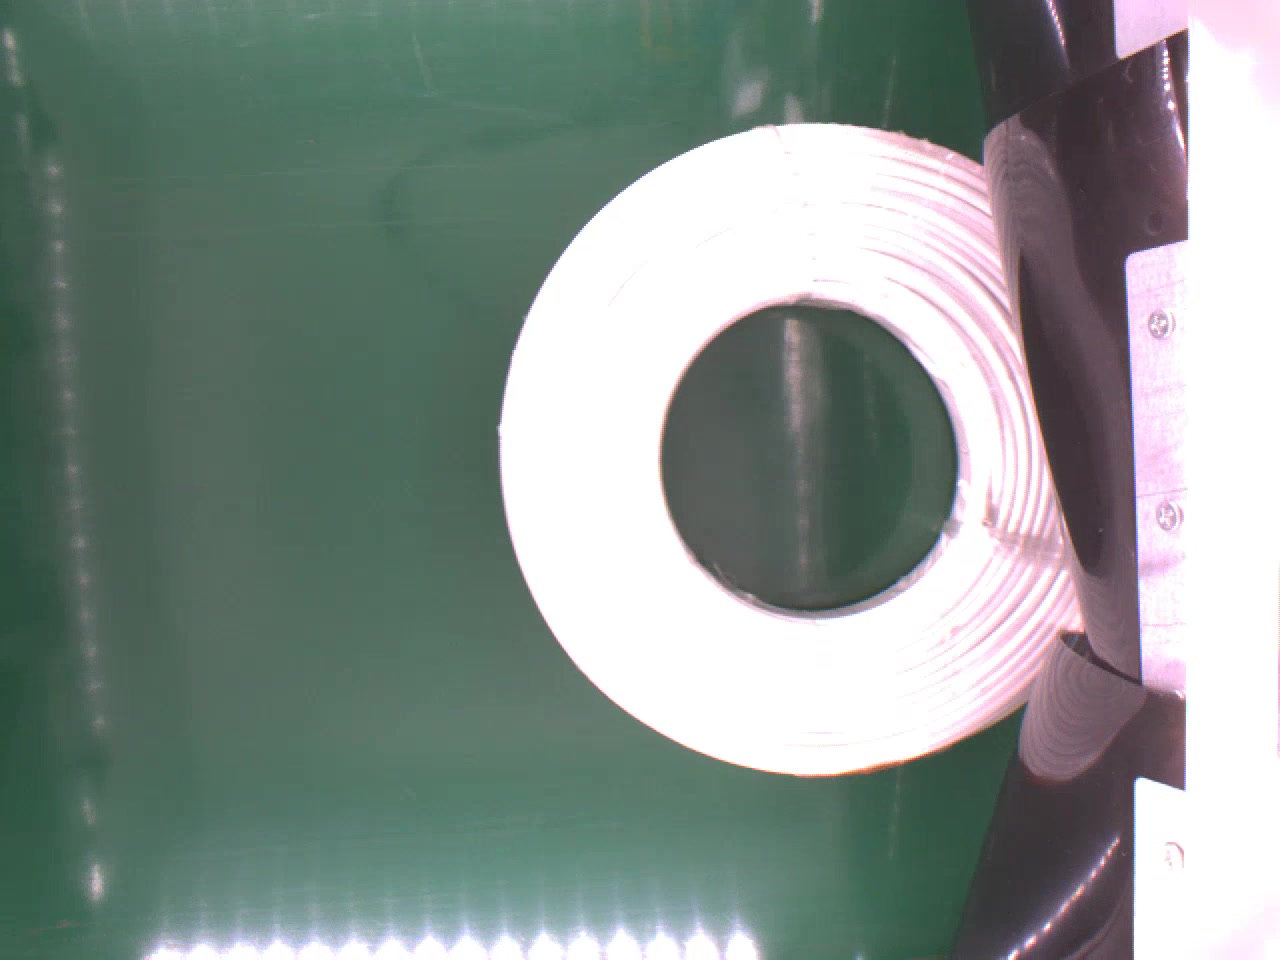white: (493, 121, 1096, 784)
